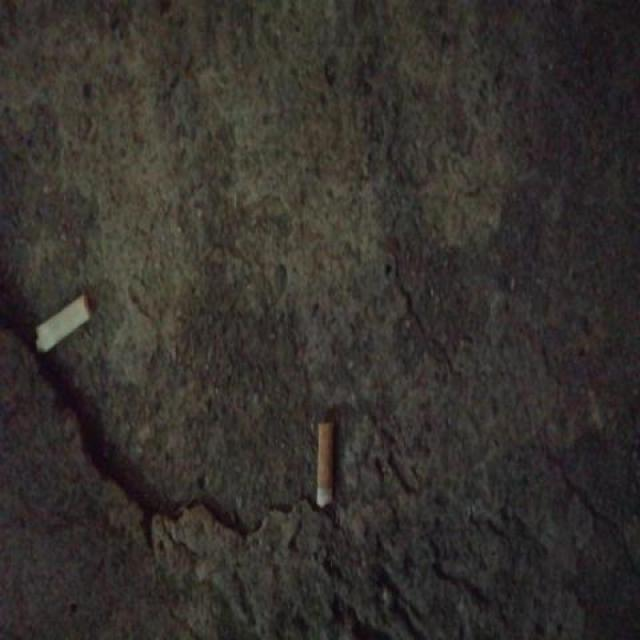non-organic waste: (33, 288, 94, 361), (313, 419, 339, 512)
